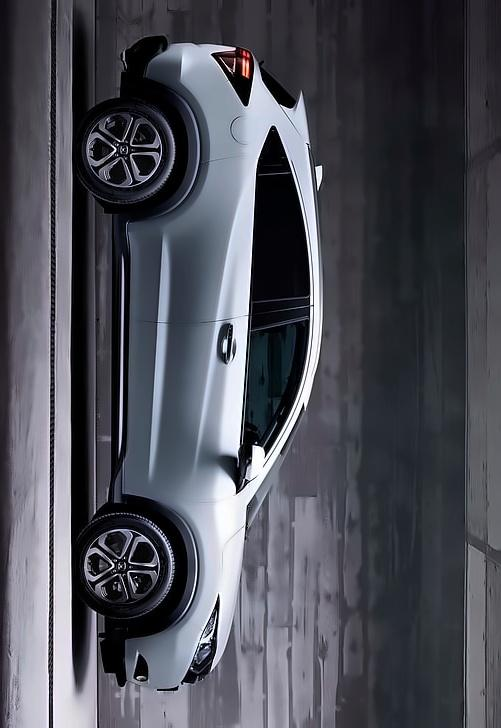Driver-s door - -F-R-: (126, 310, 321, 496)
Fender - -F-R-: (111, 485, 251, 631)
Fender - -R-R-: (173, 78, 281, 165)
Front bumper: (105, 619, 185, 702)
Headlight - -R-: (180, 583, 226, 691)
Passenger-s door - -R-R-: (133, 149, 322, 315)
Rear bumper: (110, 24, 229, 109)
Rear light - -R-: (205, 33, 257, 109)
Side bumper - -R-: (96, 198, 142, 509)
Side mirror - -R-: (230, 439, 269, 497)
